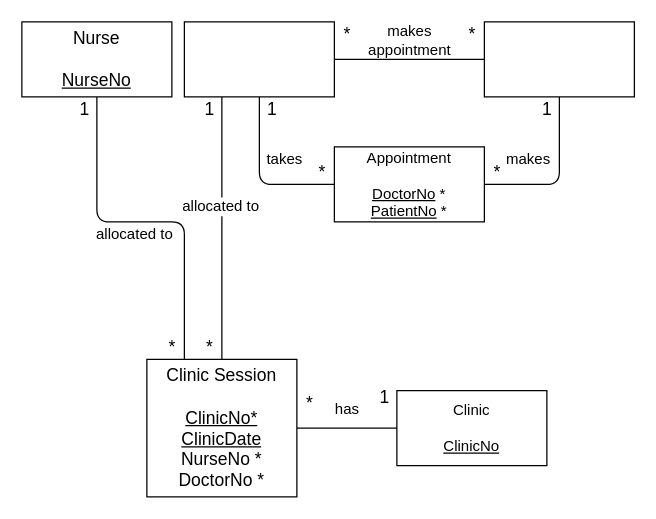
Some shapes in this 656 by 519 pixel diagram are drawn without their labels. Each missing label, with the box of its shape:
Doctor DoctorNo: (183, 21, 334, 97)
Patient PatientNo: (483, 21, 634, 97)
